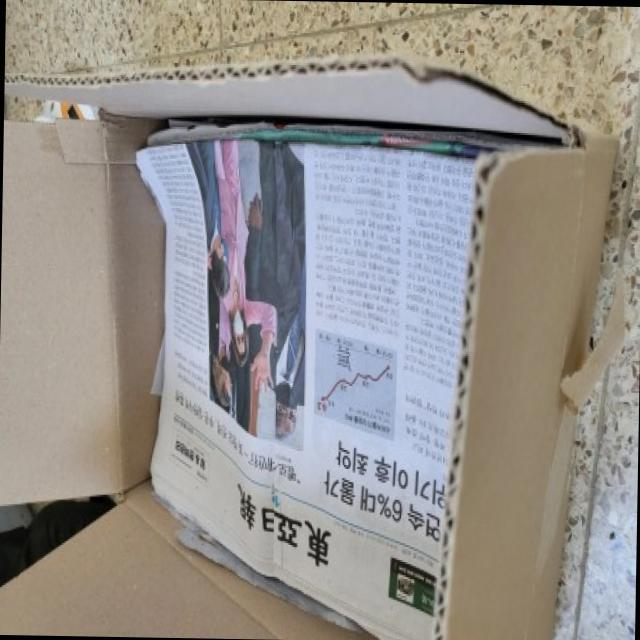reuseable_paper: (142, 130, 478, 640)
